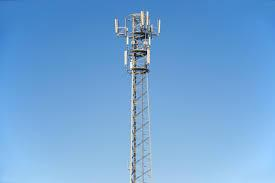antenna: (145, 47, 150, 64), (123, 48, 128, 64), (140, 10, 145, 26), (114, 18, 118, 33), (158, 19, 161, 35), (147, 11, 149, 25)
